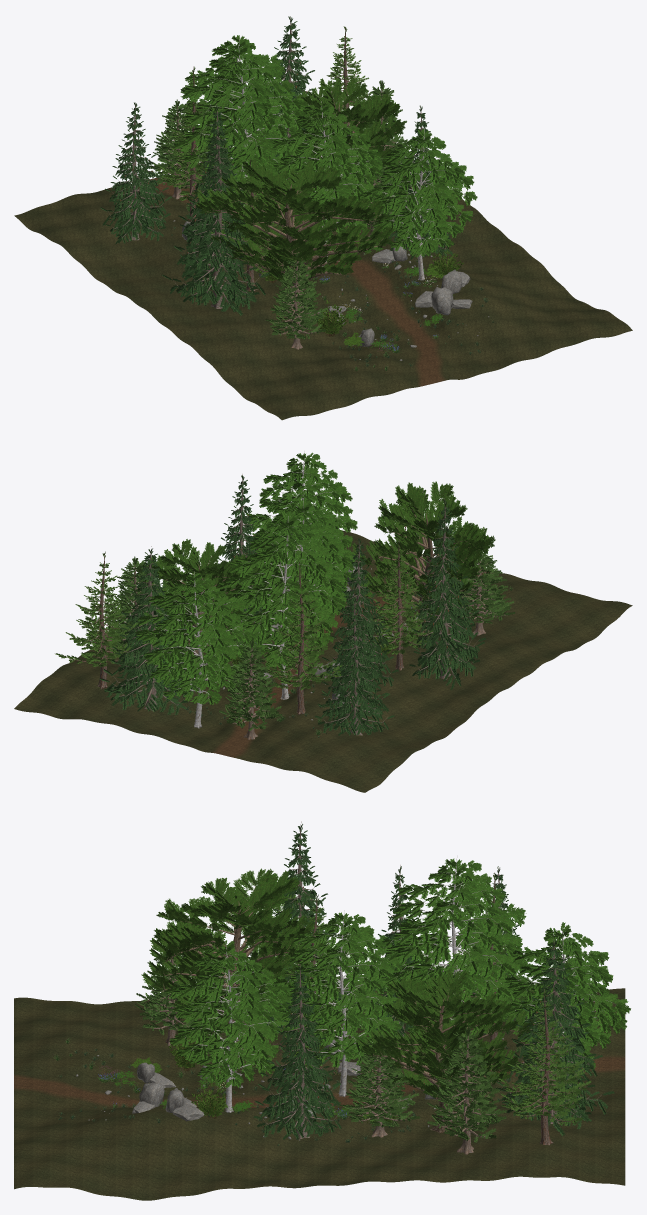
File: granite-woodland.glb
The picture shows the model from 3 angles, top to bottom: view 1: azimuth 30°, elevation 25°; view 2: azimuth 150°, elevation 25°; view 3: azimuth 270°, elevation 25°; orthographic projection. The views are drawn at different scales.
Visible parts, largest first — view 1: Forest loam and trail, English oak 01, Silver birch 03, Silver birch 01, Norway spruce 03, Silver birch 02, Norway spruce 04, English oak 02, Pine 01, European larch 02, Silver birch 04, Pine 04 (+6 smaller); view 2: Forest loam and trail, Silver birch 03, Silver birch 04, English oak 01, Norway spruce 03, Norway spruce 05, Norway spruce 04, Silver birch 01, English oak 02, European larch 02, European larch 03, Norway spruce 02 (+6 smaller); view 3: Forest loam and trail, Silver birch 03, English oak 01, Silver birch 01, English oak 02, Silver birch 02, Silver birch 04, Norway spruce 01, Norway spruce 05, European larch 03, Pine 03, Pine 02 (+6 smaller).
Boxes of the visible parts, x1,y1,x2,y2 form: Forest loam and trail: (14,146,632,420); English oak 01: (195,158,394,311); Silver birch 03: (173,44,307,206); Silver birch 01: (360,129,477,280); Norway spruce 03: (162,129,269,315); Silver birch 02: (272,101,383,262); Norway spruce 04: (100,102,171,243); English oak 02: (282,78,405,219); Pine 01: (265,252,327,349); European larch 02: (152,66,215,220); Silver birch 04: (182,35,285,174); Pine 04: (146,99,201,199); Forest loam and trail: (14,529,632,792); Silver birch 03: (218,511,346,699); Silver birch 04: (135,571,265,728); English oak 01: (352,481,495,644); Norway spruce 03: (409,498,485,689); Norway spruce 05: (99,546,198,714); Norway spruce 04: (314,596,394,735); Silver birch 01: (245,451,357,565); English oak 02: (131,539,264,678); European larch 02: (267,560,344,714); European larch 03: (55,551,137,689); Norway spruce 02: (322,538,398,686); Forest loam and trail: (14,987,625,1200); Silver birch 03: (373,855,530,1036); English oak 01: (141,868,327,1049); Silver birch 01: (165,940,297,1112); English oak 02: (357,968,533,1133); Silver birch 02: (273,910,409,1097); Silver birch 04: (504,922,630,1072); Norway spruce 01: (253,964,347,1139); Norway spruce 05: (496,938,614,1136); European larch 03: (498,989,591,1145); Pine 03: (427,1025,506,1154); Pine 02: (340,1034,420,1137).
Size of the model in its own units: 28 by 15.75 by 37.46.
Materials: 33 (33 with a texture image).
